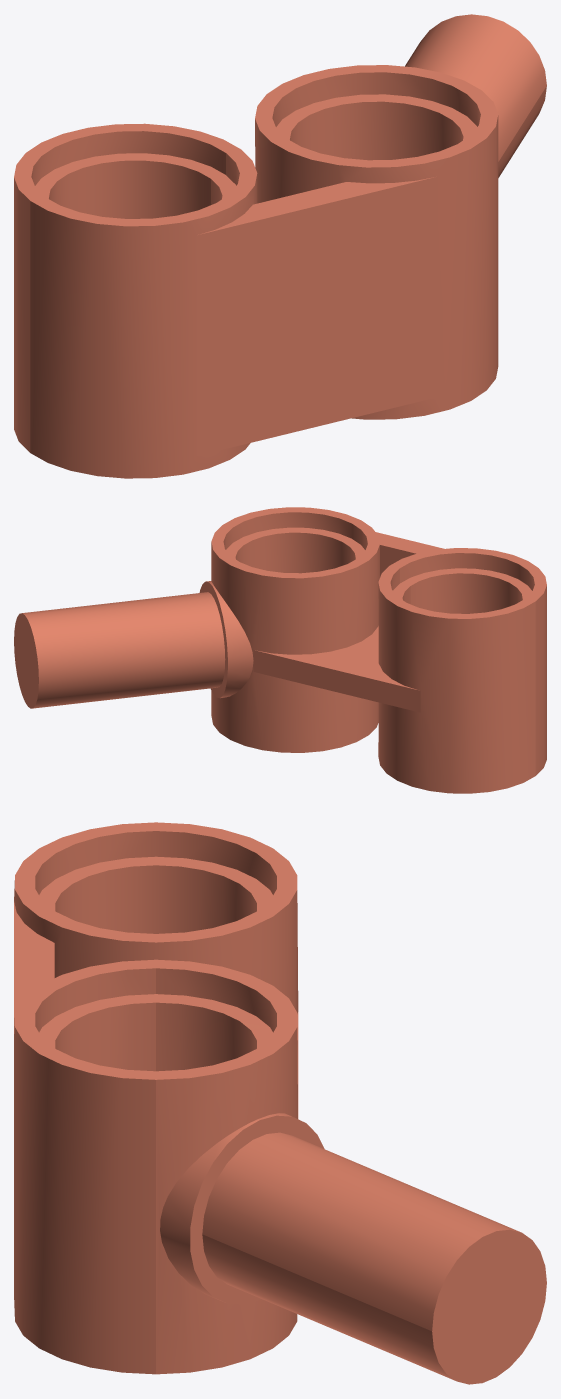
3 views of the same model, one above another, from view 1: azimuth 30°, elevation 25°; view 2: azimuth 150°, elevation 25°; view 3: azimuth 270°, elevation 25° (orthographic). The views are drawn at different scales.
Visible parts, largest first — view 1: [pivoted]; view 2: [pivoted]; view 3: [pivoted].
Part boxes in pixels (x1,y1,x2,y2): [pivoted]: (14,14,546,478); [pivoted]: (14,507,546,793); [pivoted]: (14,822,546,1384).
Size of the model in its own units: 2.11 by 0.8 by 1.31.
